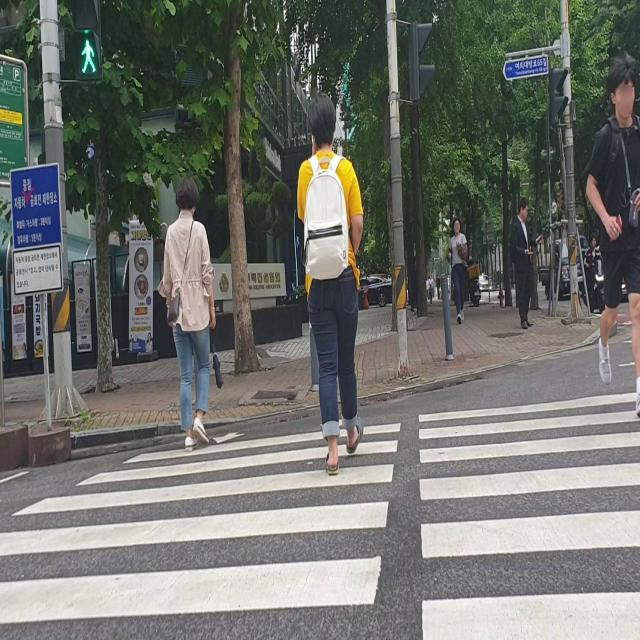횡단보도: (0, 386, 640, 639)
